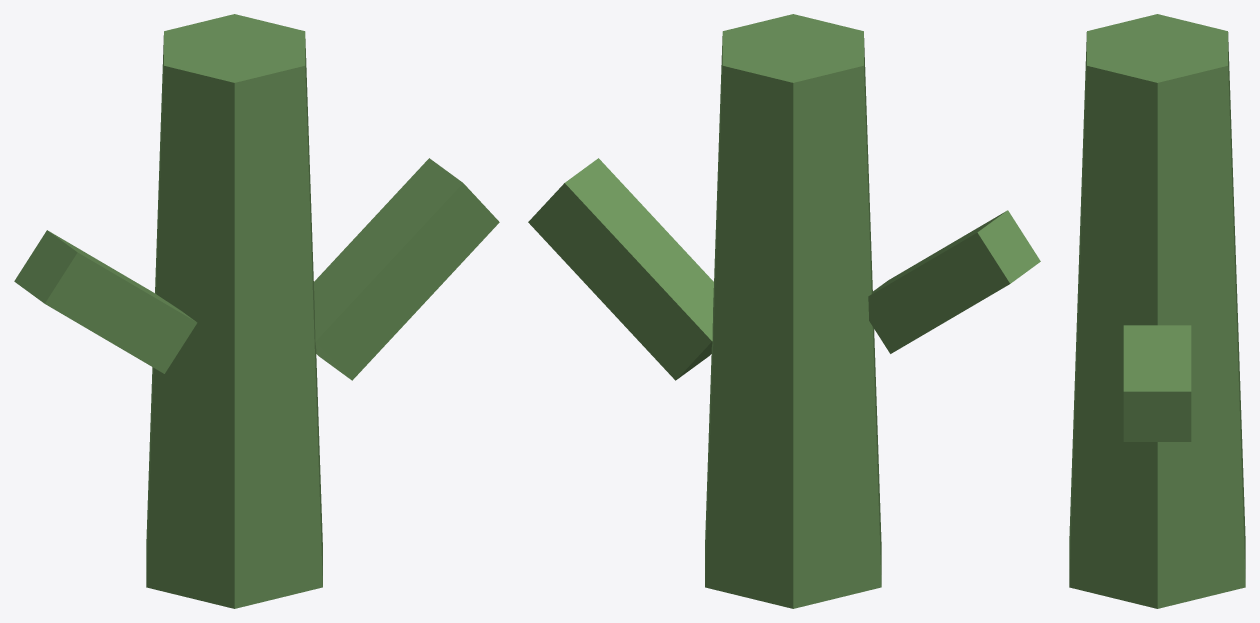
The model's file is prop_cactus.glb.
3 views of the same model, side by side, from view 1: azimuth 30°, elevation 25°; view 2: azimuth 150°, elevation 25°; view 3: azimuth 270°, elevation 25° (orthographic).
Visible parts, largest first — view 1: prop_cactus; view 2: prop_cactus; view 3: prop_cactus.
Boxes of the visible parts, <box> form: prop_cactus: <box>14,14,499,608</box>; prop_cactus: <box>528,14,1040,608</box>; prop_cactus: <box>1069,14,1245,608</box>.
Bounding box in the file's own units: 0.3967 × 0.42 × 0.1299.
